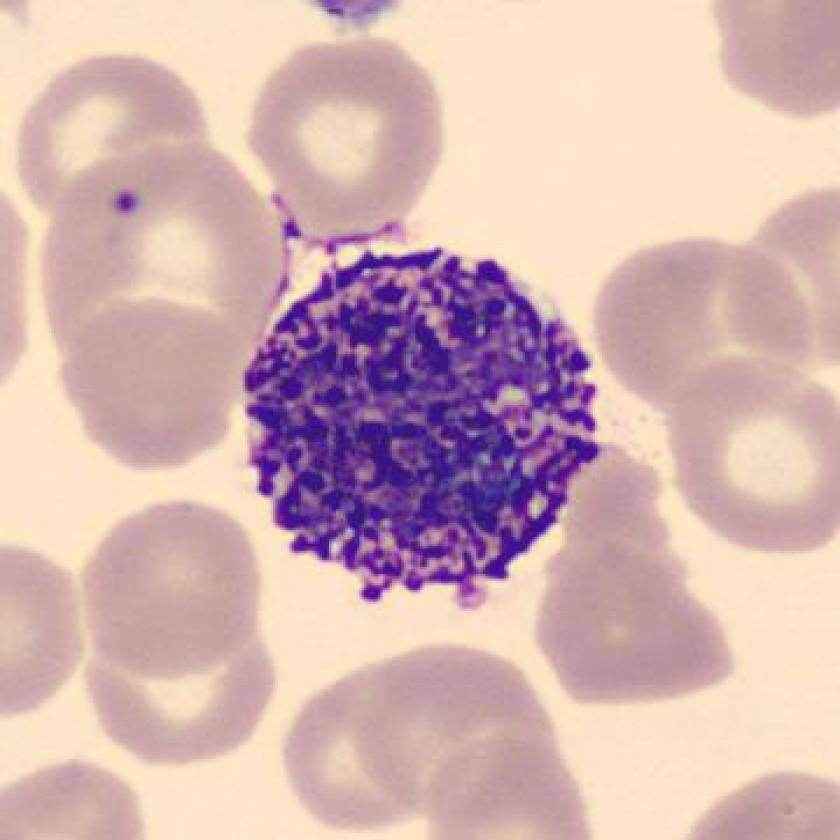basophil: (227, 251, 608, 600)
